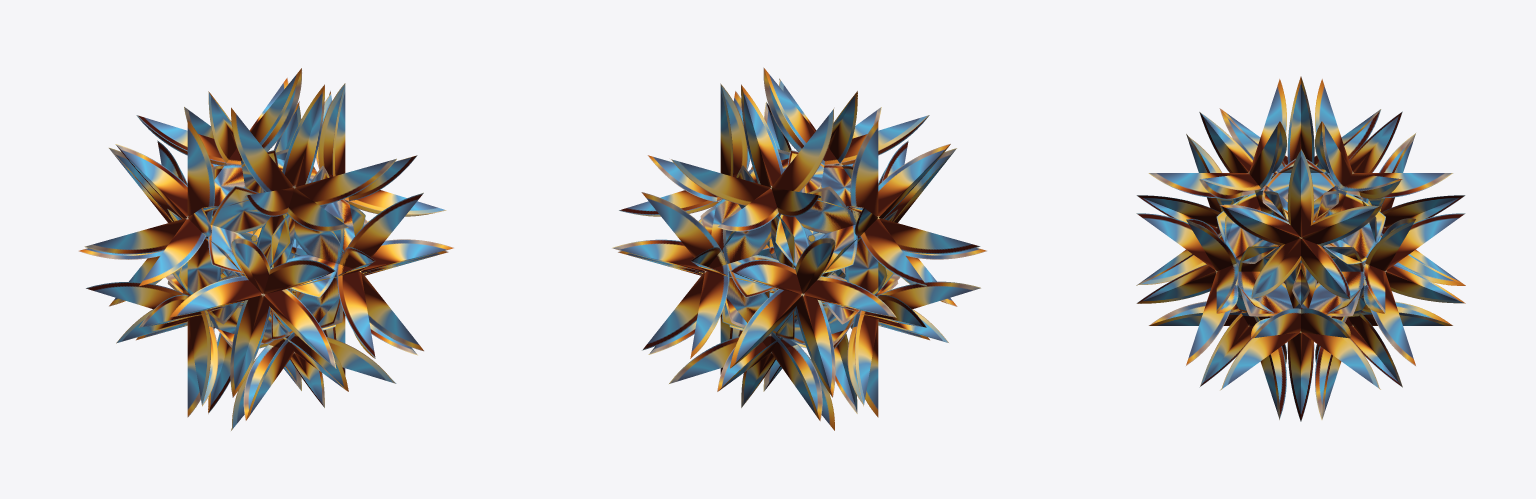
File: GreatStellatedDodecahedron1.obj
The picture shows the model from 3 angles, left to right: view 1: azimuth 30°, elevation 25°; view 2: azimuth 150°, elevation 25°; view 3: azimuth 270°, elevation 25°; orthographic projection. The views are drawn at different scales.
Size of the model in its own units: 1 by 1 by 1.
1 material, 1 textured.
